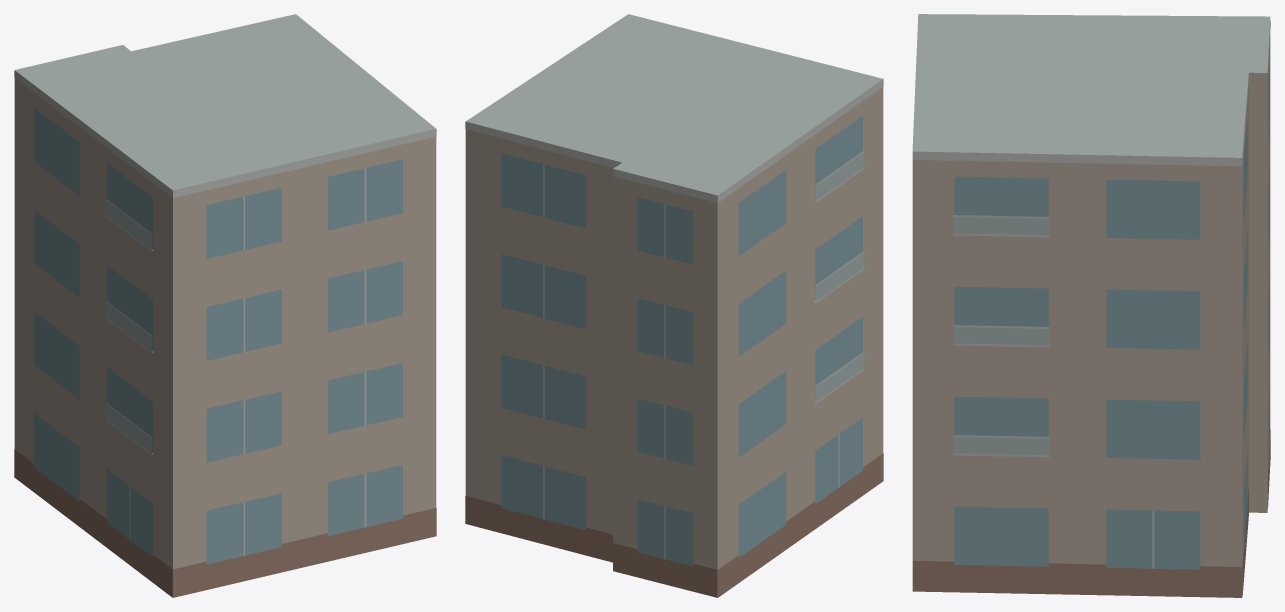
File: survey-upis-33031985.glb
3 views of the same model, side by side, from view 1: azimuth 30°, elevation 25°; view 2: azimuth 150°, elevation 25°; view 3: azimuth 270°, elevation 25° (orthographic). The views are drawn at different scales.
Parts seen in each view (by area): view 1: survey-upis-33031985.tmp; view 2: survey-upis-33031985.tmp; view 3: survey-upis-33031985.tmp.
Part boxes in pixels (bbox=[...]): survey-upis-33031985.tmp: bbox=[14, 14, 436, 597]; survey-upis-33031985.tmp: bbox=[465, 14, 883, 597]; survey-upis-33031985.tmp: bbox=[912, 14, 1270, 597].
Size of the model in its own units: 9.08 by 12.91 by 9.53.
